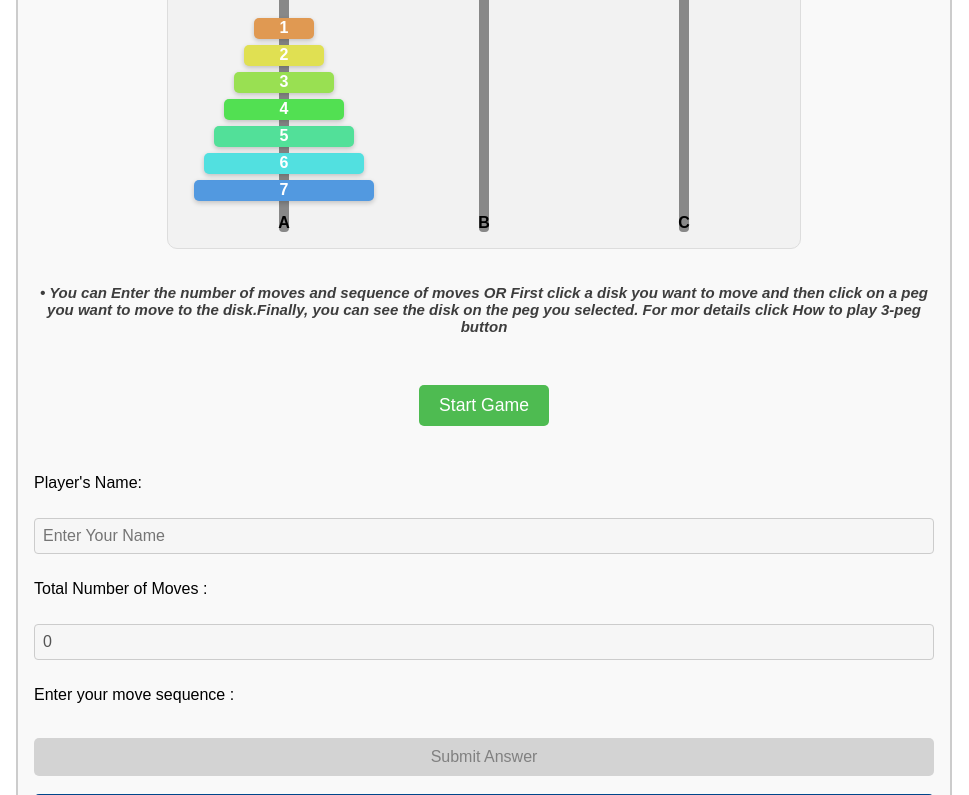
Test: TowerOfHanoi handleMoveCountChange functionality › updates user move count and user moves correctly with valid input
(page scrolled)
Start the game
Click the button "Start Game" at (484, 406), box [419, 385, 549, 426]
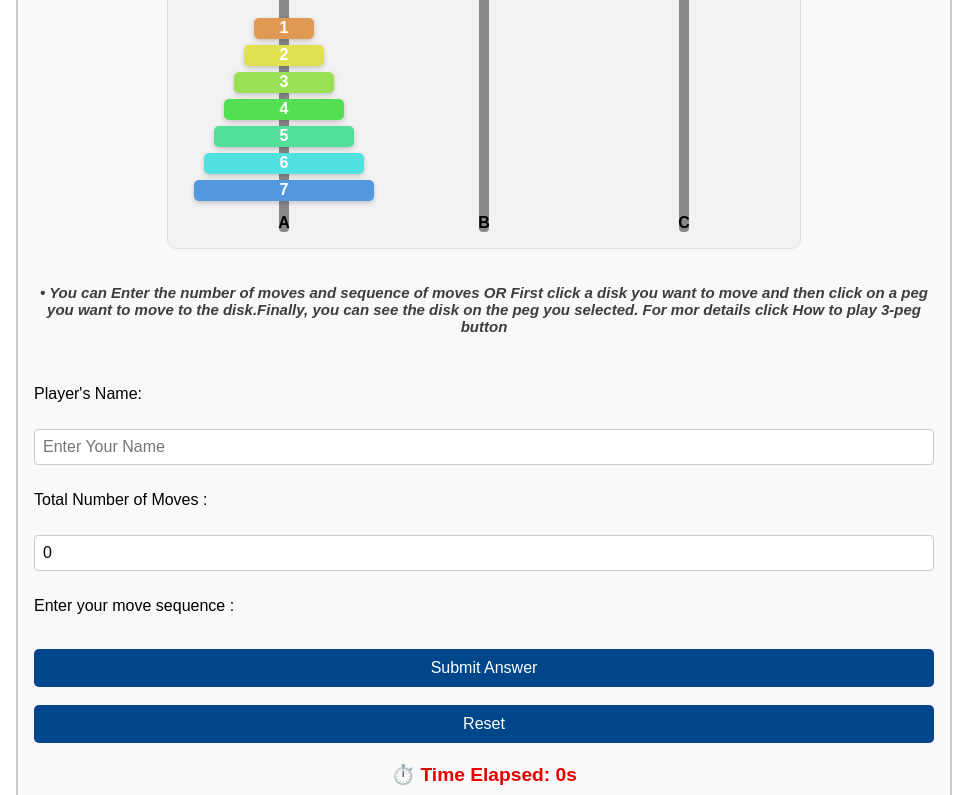
Enter a valid move count
Replace the text in the number field with placeholder "Enter Your Move Count (e.g. 7)" with "3" at (484, 553), box [34, 535, 934, 571]
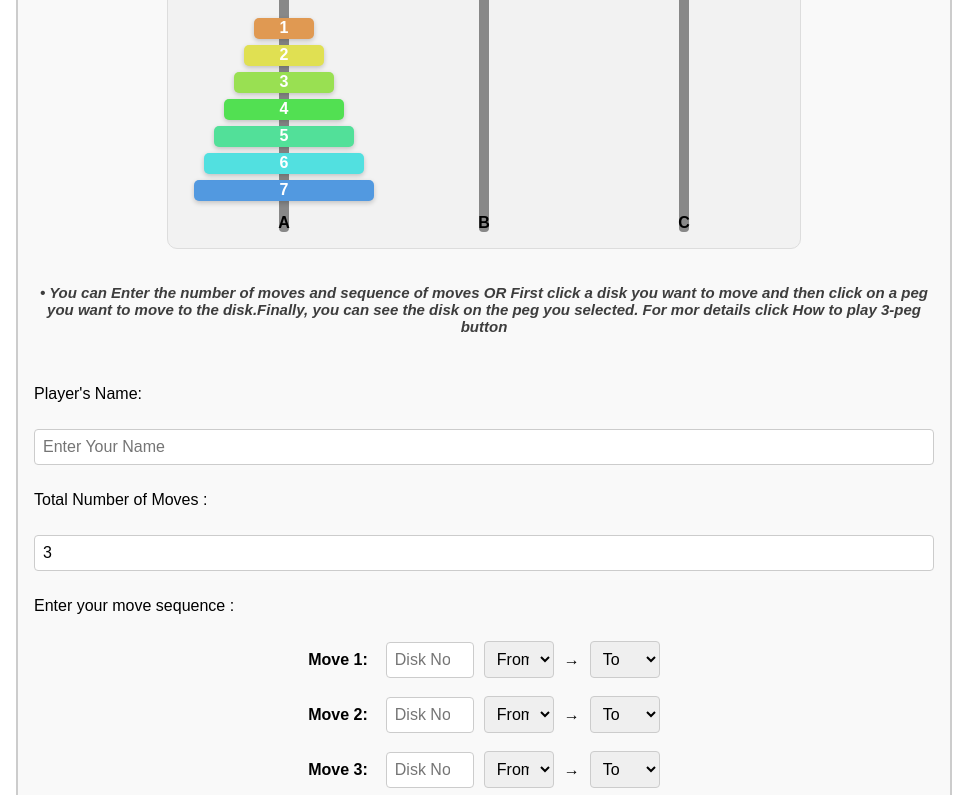
Expected: the number of number fields with placeholder "Disk No:" is 3, [386, 642, 474, 678]; [386, 697, 474, 733]; [386, 752, 474, 788]
